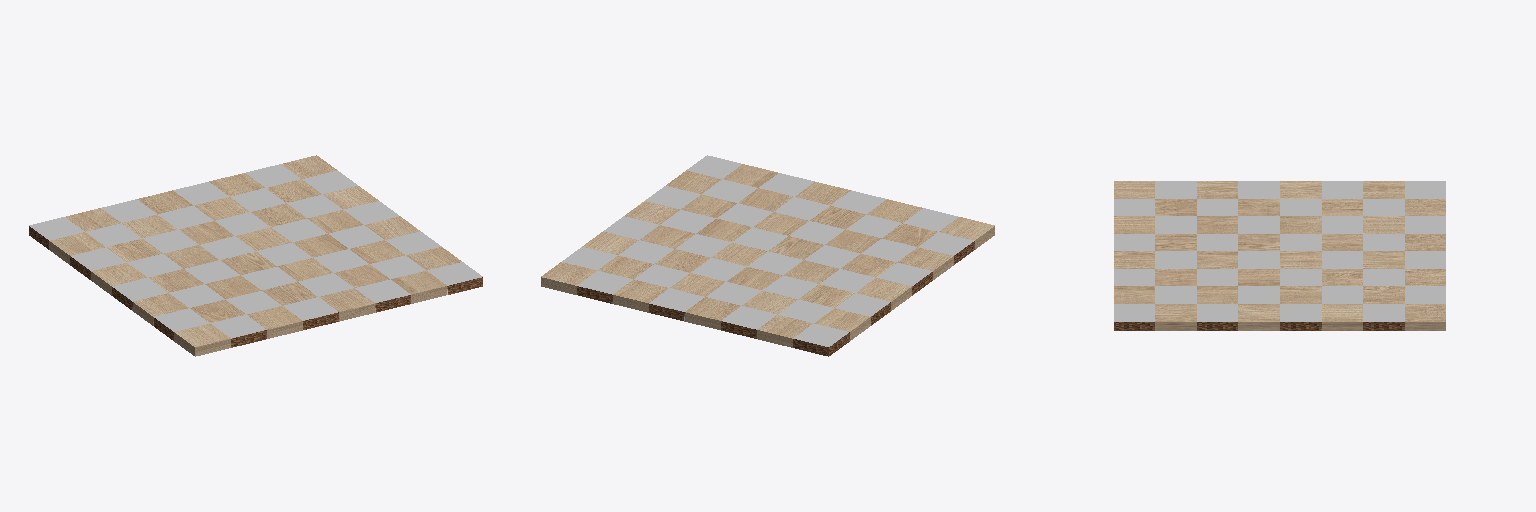
3 views of the same model, side by side, from view 1: azimuth 30°, elevation 25°; view 2: azimuth 150°, elevation 25°; view 3: azimuth 270°, elevation 25° (orthographic).
Visible parts, largest first — view 1: Cube; view 2: Cube; view 3: Cube.
Boxes of the visible parts, <box> form: Cube: <box>29,155,482,356</box>; Cube: <box>541,155,994,356</box>; Cube: <box>1114,181,1445,330</box>.
Bounding box in the file's own units: 128 × 4 × 128.
3 materials, 2 textured.